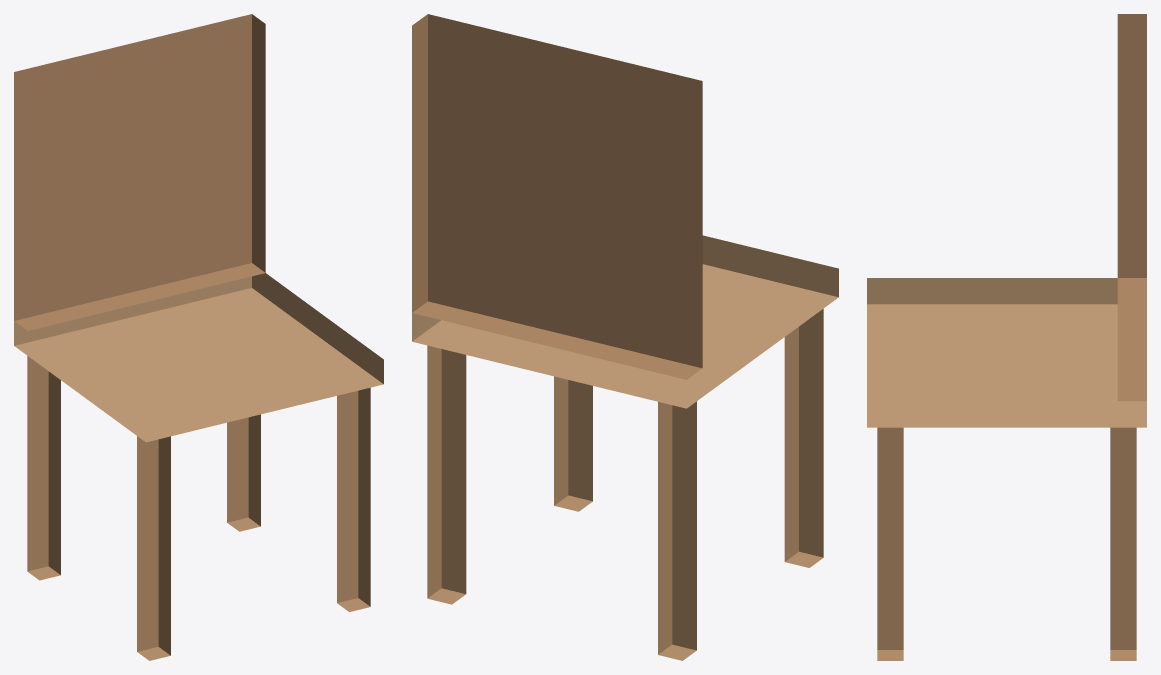
Rendered from d5-dummy-chair.glb.
3 renders of one model, left to right at view 1: azimuth 30°, elevation 25°; view 2: azimuth 150°, elevation 25°; view 3: azimuth 270°, elevation 25°, orthographic. The views are drawn at different scales.
Visible parts, largest first — view 1: back, seat, leg--1-1, leg-1-1, leg--1--1, leg-1--1; view 2: back, seat, leg-1--1, leg--1--1, leg--1-1, leg-1-1; view 3: seat, back, leg-1--1, leg-1-1.
Boxes of the visible parts, x1=… form: back: x1=14, y1=14, x2=265, y2=330; seat: x1=14, y1=273, x2=383, y2=442; leg--1-1: x1=137, y1=436, x2=170, y2=660; leg-1-1: x1=337, y1=387, x2=370, y2=611; leg--1--1: x1=27, y1=356, x2=60, y2=580; leg-1--1: x1=227, y1=414, x2=260, y2=531; back: x1=412, y1=14, x2=702, y2=379; seat: x1=412, y1=235, x2=838, y2=408; leg-1--1: x1=427, y1=345, x2=466, y2=604; leg--1--1: x1=658, y1=401, x2=696, y2=660; leg--1-1: x1=784, y1=309, x2=823, y2=567; leg-1-1: x1=554, y1=376, x2=592, y2=511; seat: x1=867, y1=278, x2=1146, y2=427; back: x1=1117, y1=14, x2=1146, y2=401; leg-1--1: x1=1110, y1=427, x2=1136, y2=660; leg-1-1: x1=877, y1=427, x2=903, y2=660.
Bounding box in the file's own units: 0.5 × 1 × 0.48.
